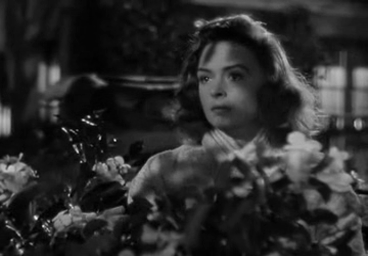face: (196, 48, 259, 128)
mcu: (1, 1, 368, 256)
person: (127, 10, 327, 204)
